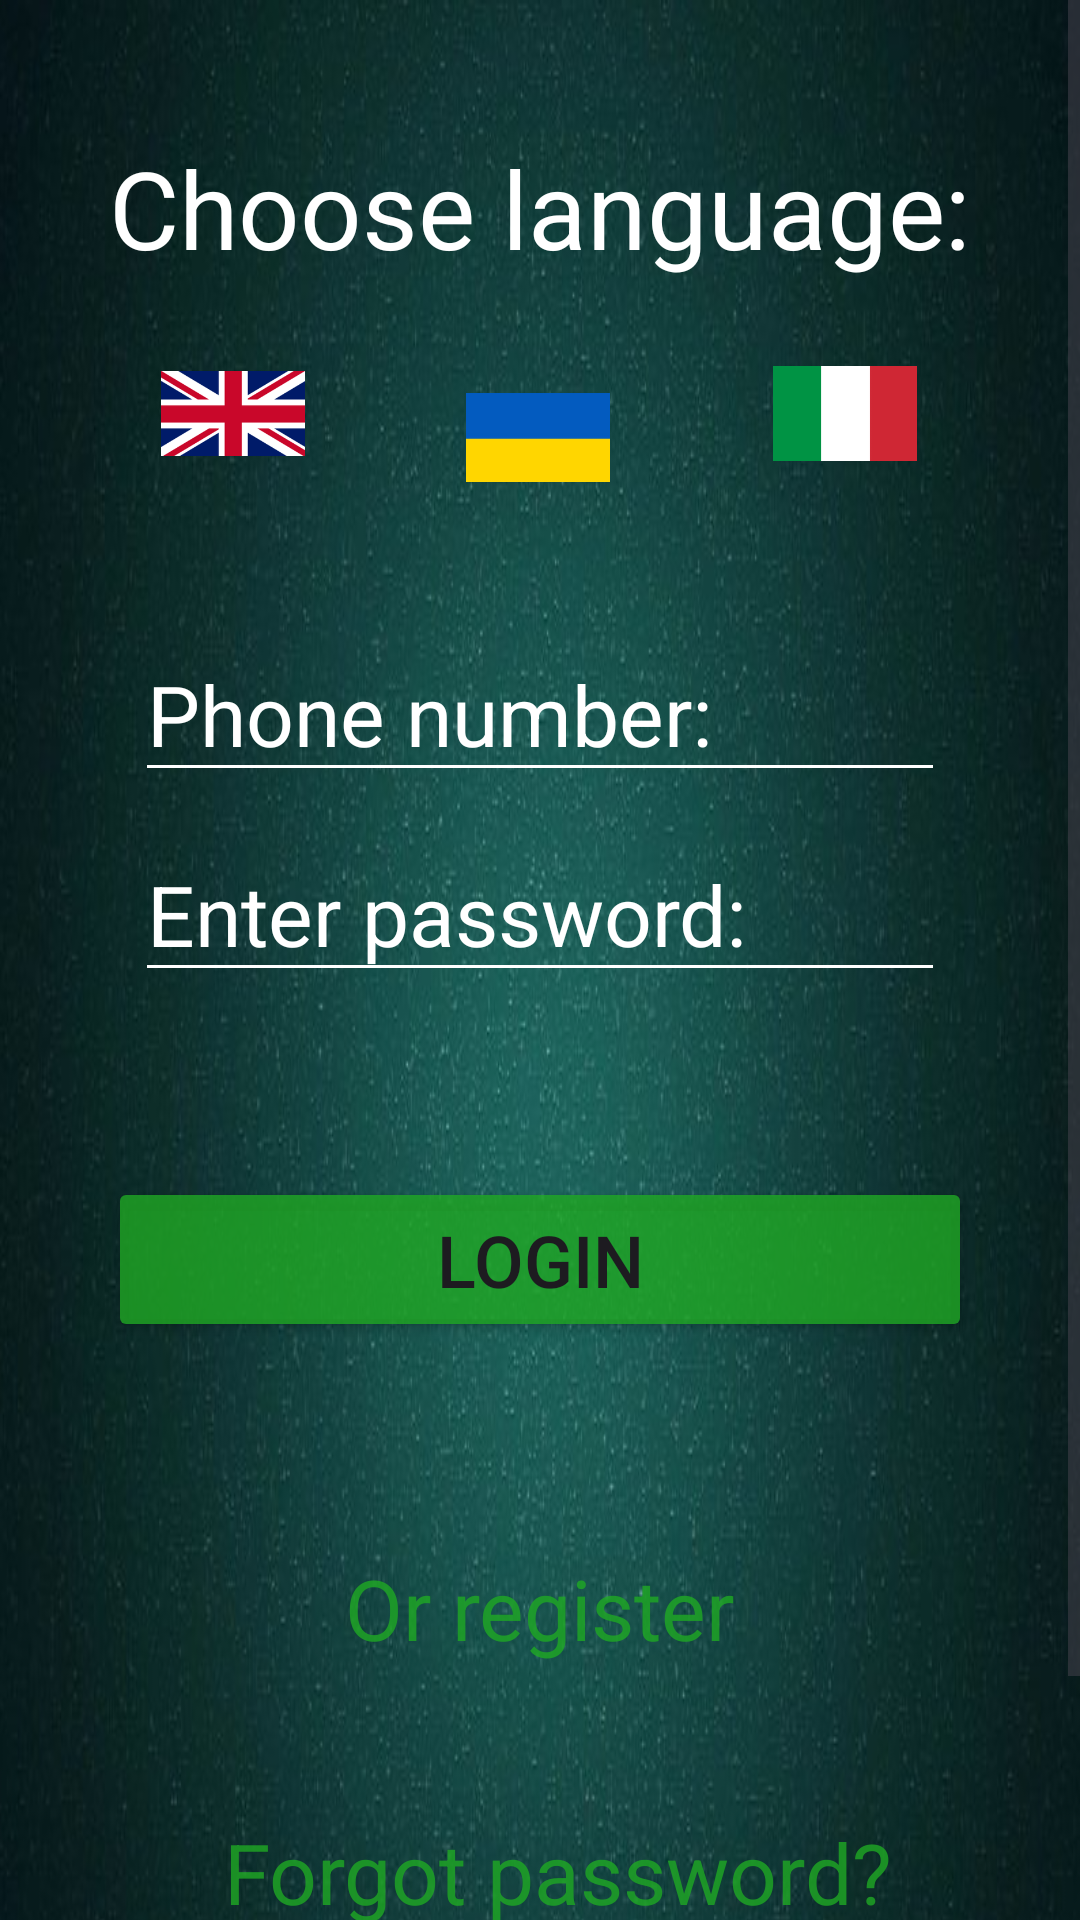

Icon click points for this 1080 × 1920 phone screenshot, format (x=x, y=y):
English: (x=233, y=417)
Italian: (x=845, y=413)
Ukrainian: (x=538, y=437)
